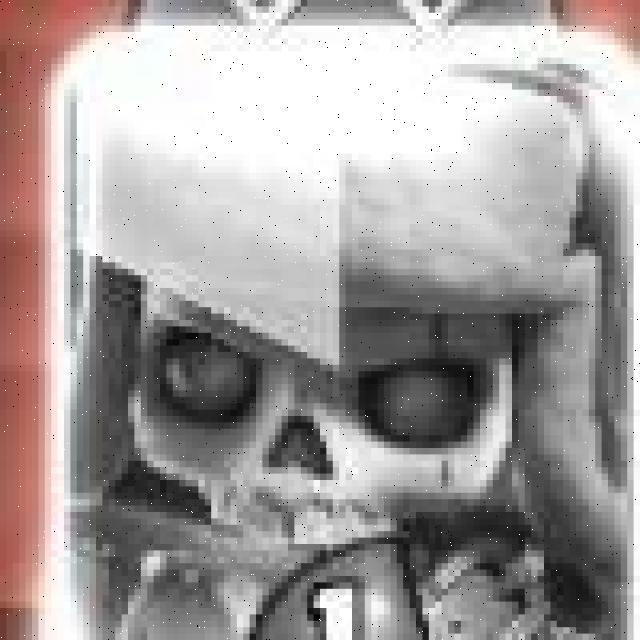Evolved_Skeletons: (46, 24, 640, 640)
